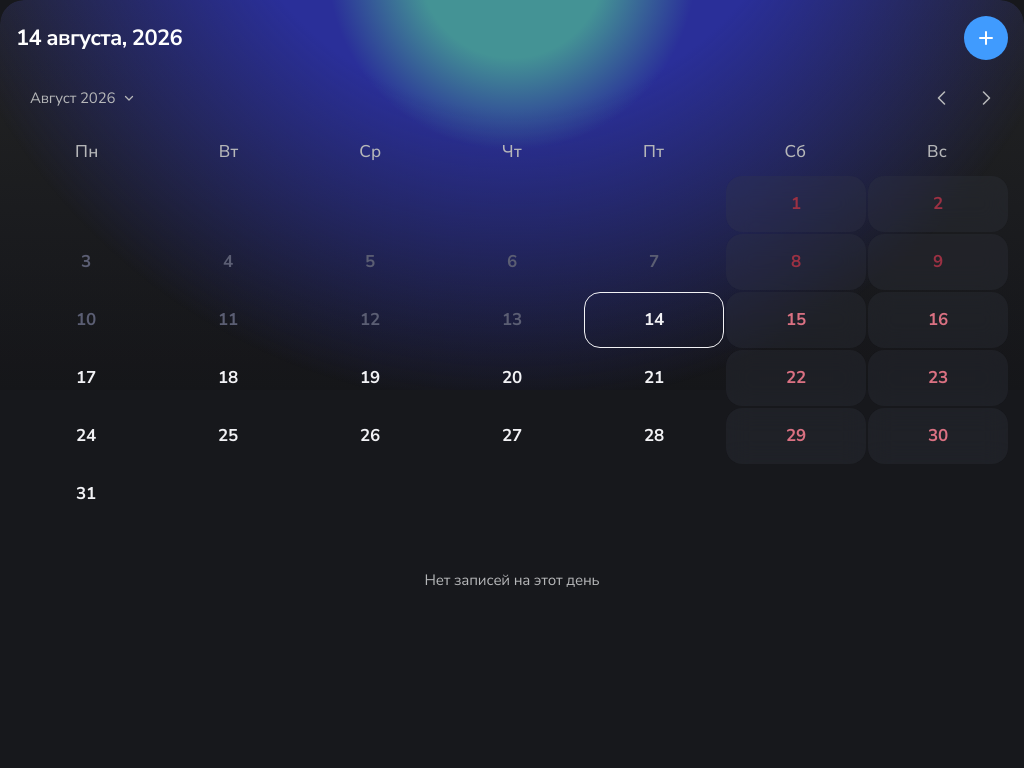
Test: BookingsPage › переключает месяц стрелками и через month menu
Click the button named "Следующий месяц".
click(986, 98)  # box left=964, top=76, right=1008, bottom=120
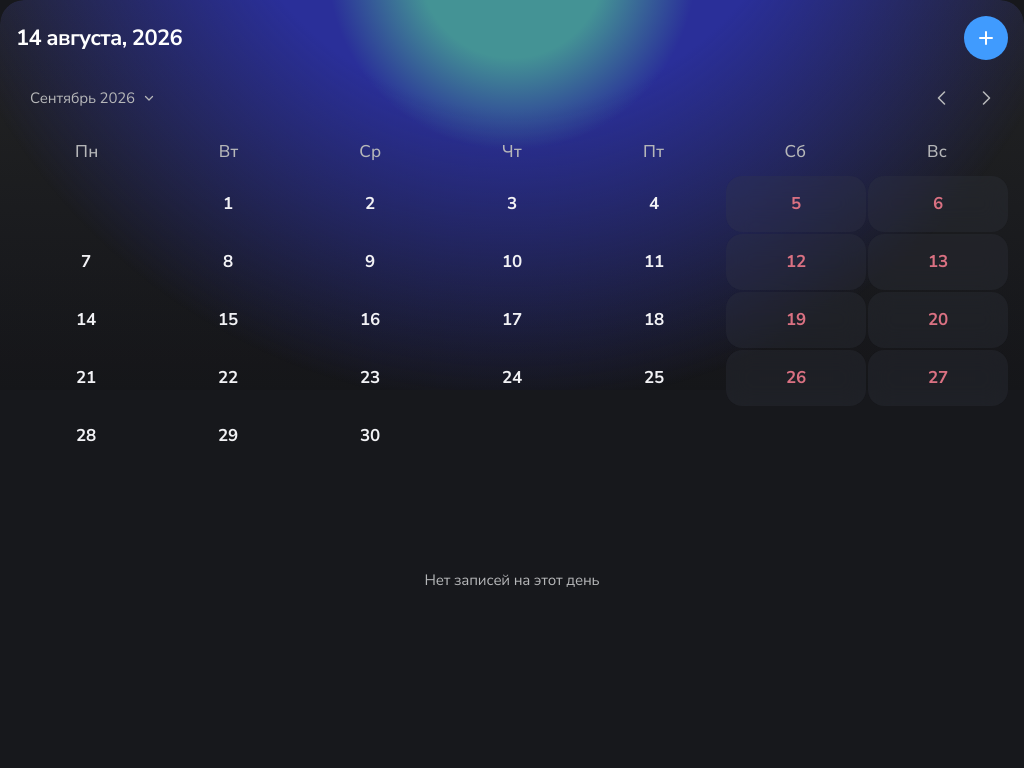
Click the button "Сентябрь 2026".
click(90, 98)  # box left=22, top=76, right=159, bottom=120
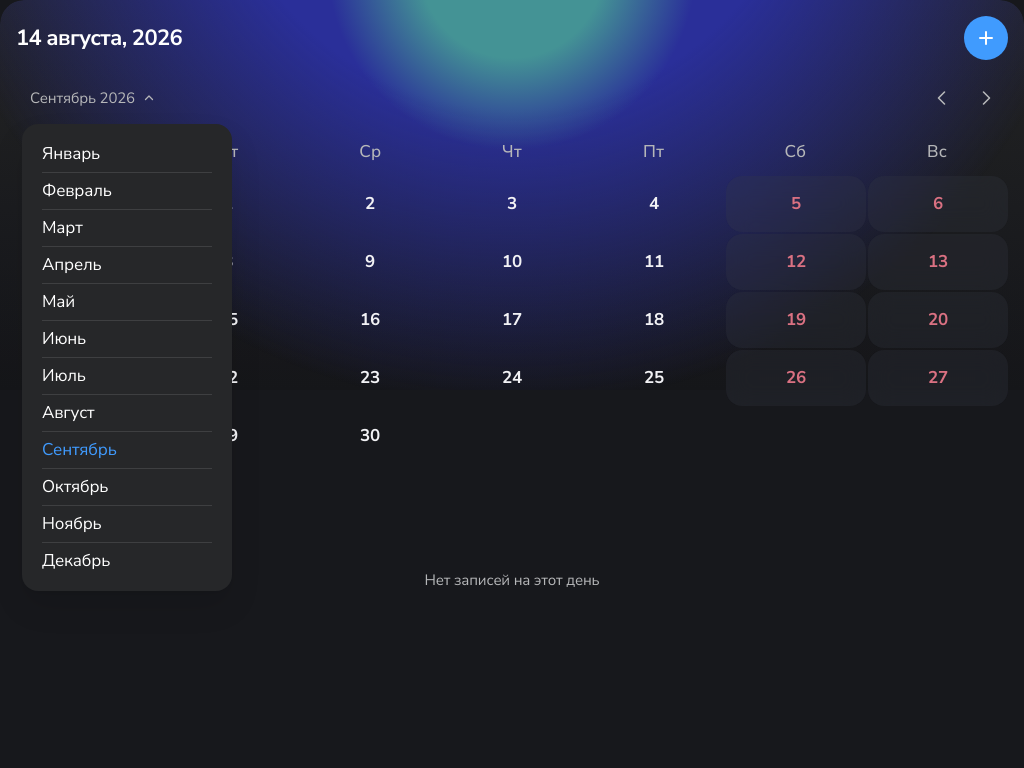
Click the menu item "Январь".
click(127, 154)  # box left=42, top=136, right=212, bottom=172
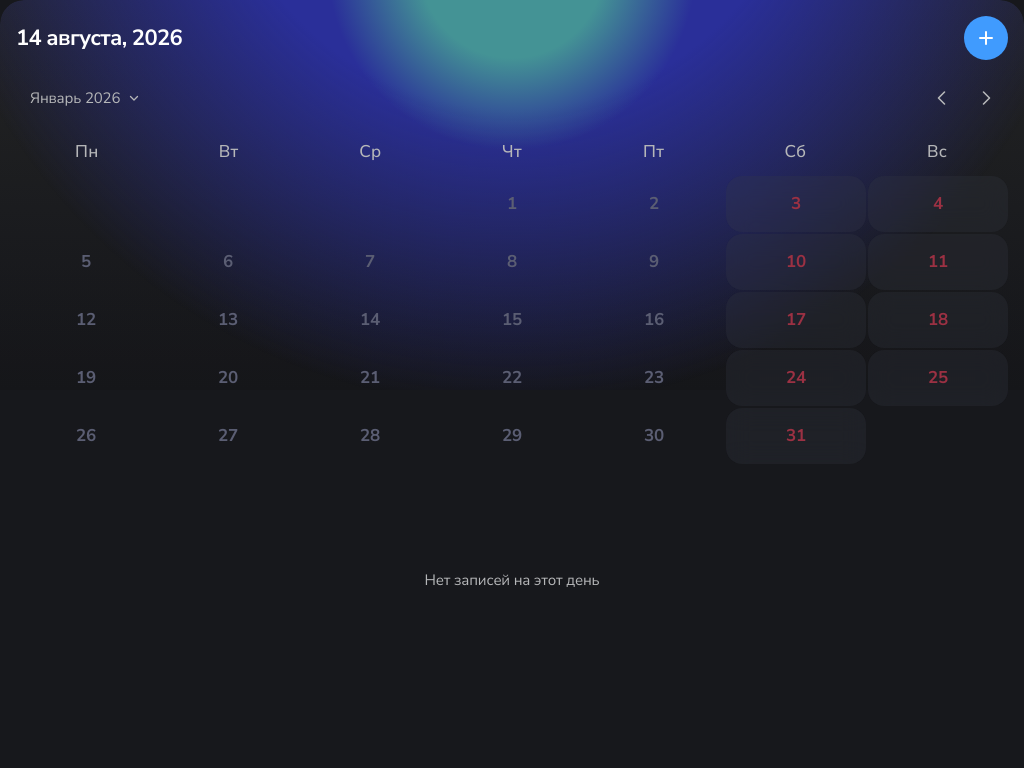
Expected: the button "Январь 2026" is collapsed, left=22, top=76, right=144, bottom=120
